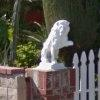Statue: (25, 10, 78, 76)
